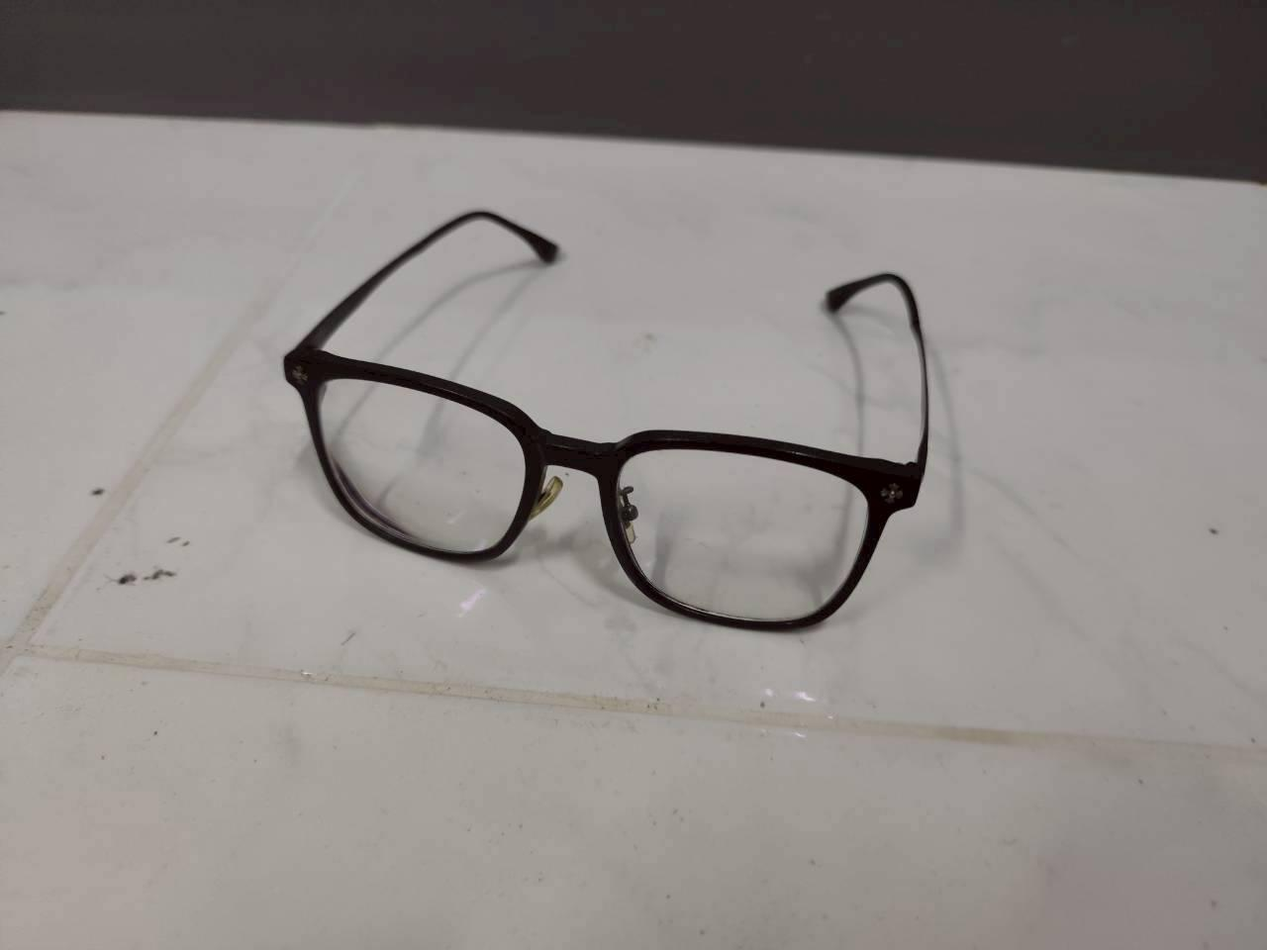glasses: (276, 210, 997, 654)
